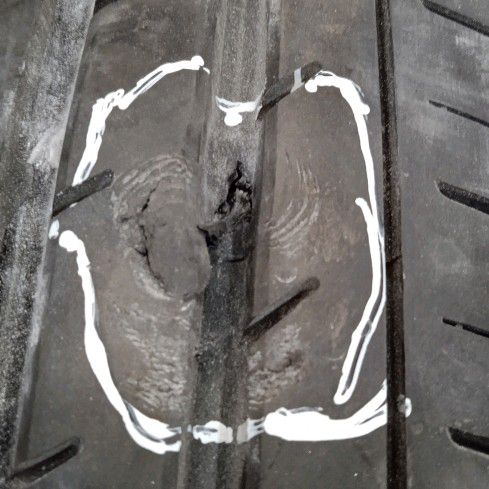tr: (103, 146, 356, 415)
